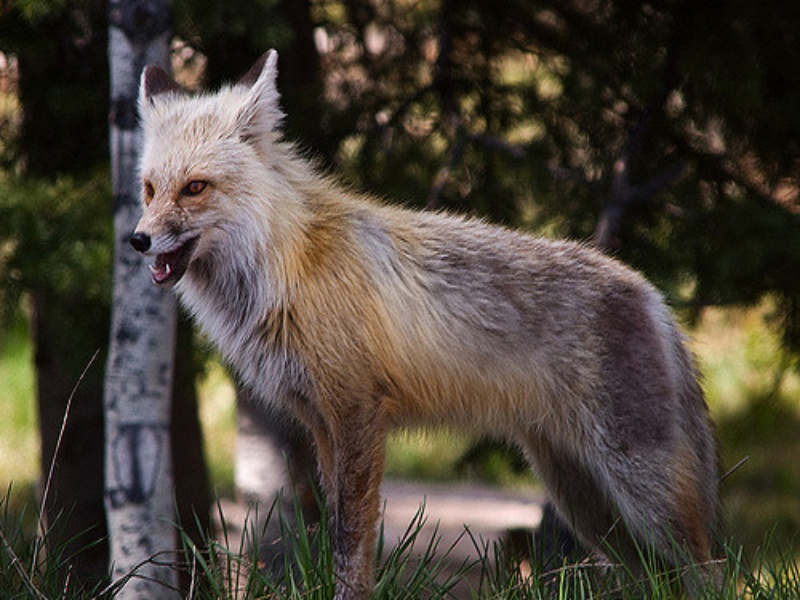fox: (128, 51, 728, 598)
